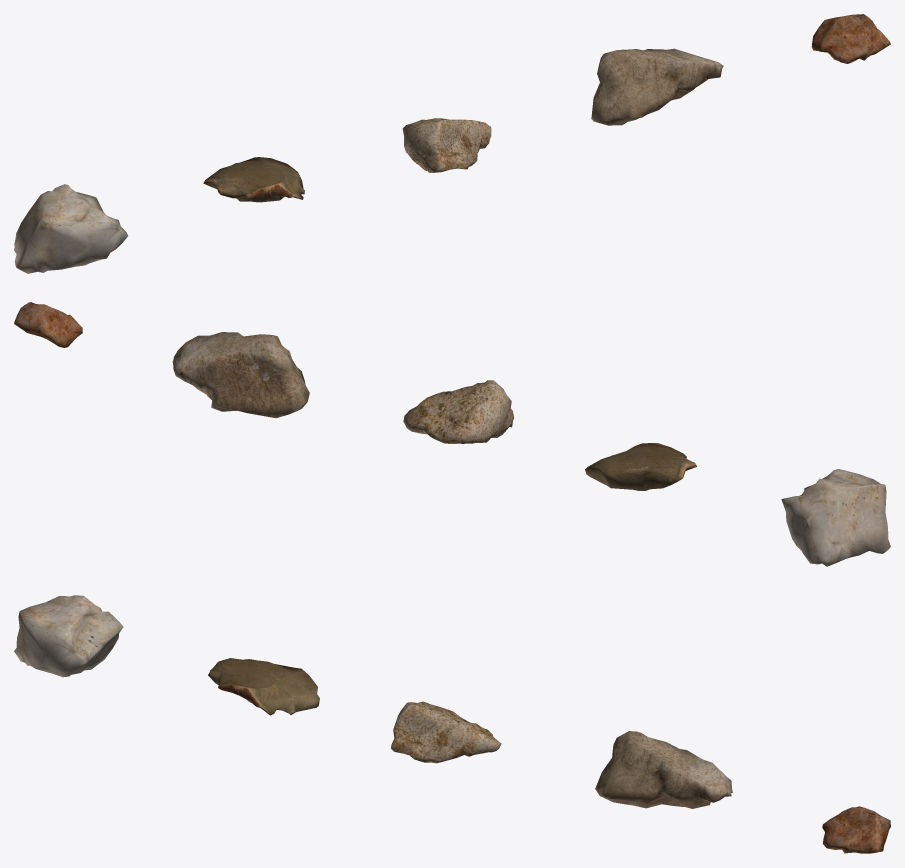
The model's file is stones_namaqua_01_low.glb.
3 renders of one model, top to bottom at view 1: azimuth 30°, elevation 25°; view 2: azimuth 150°, elevation 25°; view 3: azimuth 330°, elevation 25°, orthographic.
Parts seen in each view (by area): view 1: stones_namaqua_01_low_e, stones_namaqua_01_low_b, stones_namaqua_01_low_c, stones_namaqua_01_low_d, stones_namaqua_01_low_a; view 2: stones_namaqua_01_low_b, stones_namaqua_01_low_e, stones_namaqua_01_low_c, stones_namaqua_01_low_d, stones_namaqua_01_low_a; view 3: stones_namaqua_01_low_b, stones_namaqua_01_low_e, stones_namaqua_01_low_c, stones_namaqua_01_low_d, stones_namaqua_01_low_a.
Boxes of the visible parts, x1=… form: stones_namaqua_01_low_e: x1=14, y1=184, x2=127, y2=273; stones_namaqua_01_low_b: x1=591, y1=48, x2=723, y2=125; stones_namaqua_01_low_c: x1=402, y1=118, x2=491, y2=172; stones_namaqua_01_low_d: x1=203, y1=157, x2=304, y2=202; stones_namaqua_01_low_a: x1=811, y1=14, x2=890, y2=63; stones_namaqua_01_low_b: x1=172, y1=332, x2=309, y2=418; stones_namaqua_01_low_e: x1=781, y1=469, x2=890, y2=566; stones_namaqua_01_low_c: x1=403, y1=380, x2=513, y2=443; stones_namaqua_01_low_d: x1=585, y1=443, x2=696, y2=490; stones_namaqua_01_low_a: x1=14, y1=302, x2=82, y2=347; stones_namaqua_01_low_b: x1=595, y1=731, x2=732, y2=808; stones_namaqua_01_low_e: x1=14, y1=595, x2=123, y2=677; stones_namaqua_01_low_c: x1=391, y1=701, x2=501, y2=763; stones_namaqua_01_low_d: x1=208, y1=658, x2=319, y2=715; stones_namaqua_01_low_a: x1=822, y1=806, x2=890, y2=853.
Size of the model in its own units: 1.03 by 0.0831 by 0.1178.
Materials: 1 (1 with a texture image).
